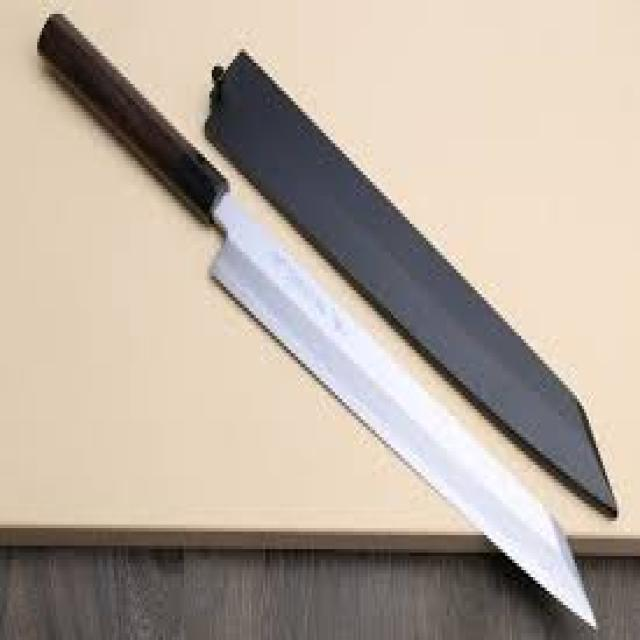knives: (32, 7, 608, 633)
